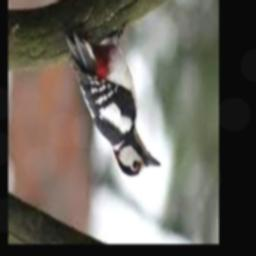Woodpecker: (66, 24, 162, 176)
